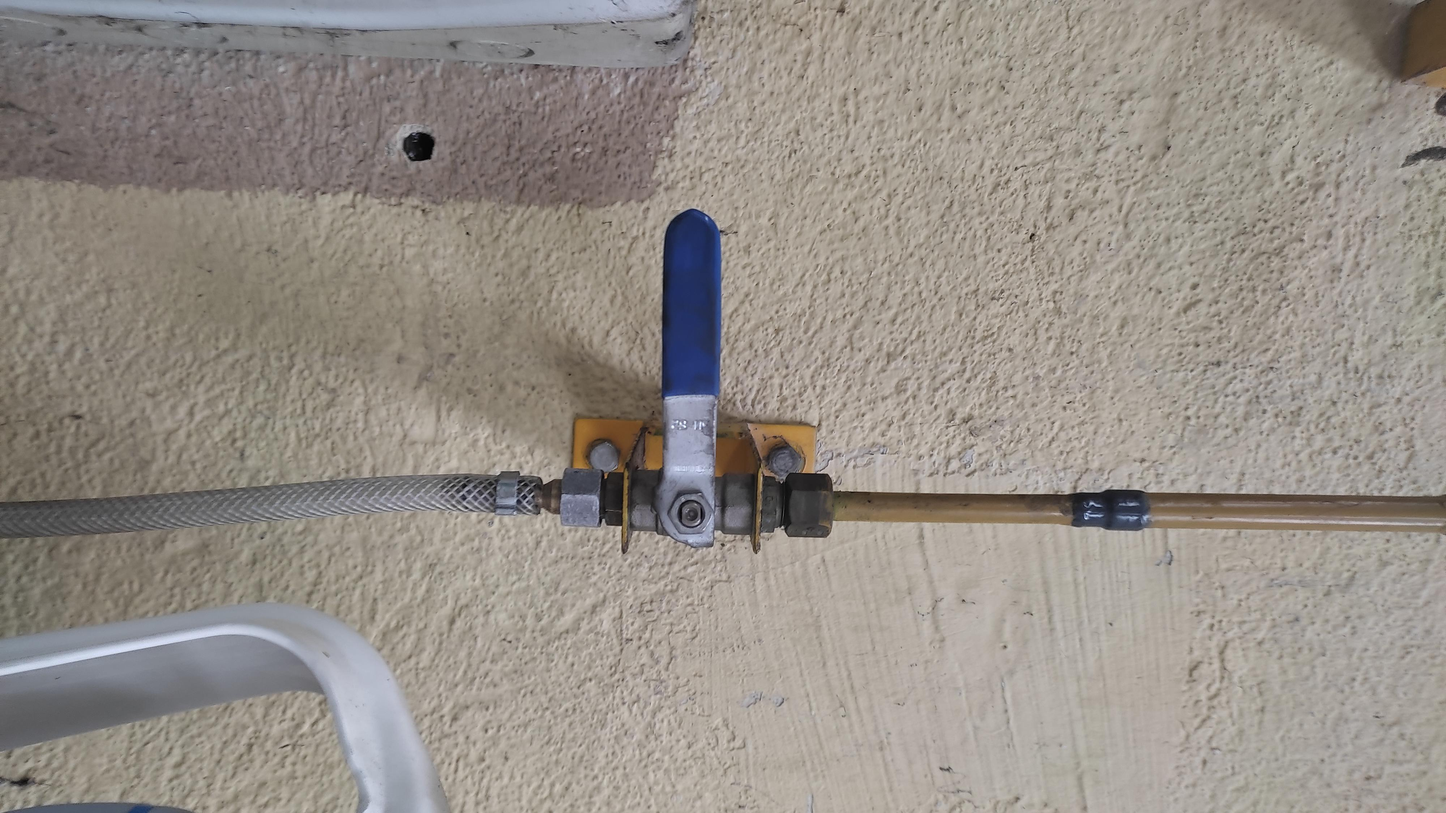closed valve: (620, 206, 767, 554)
